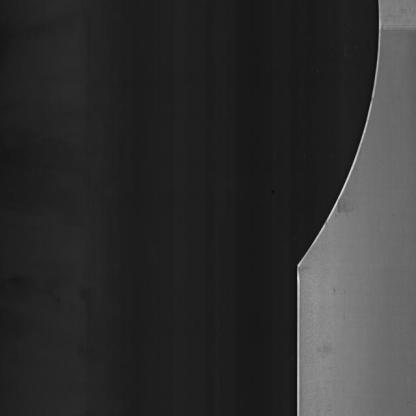crescent_gap: (286, 3, 384, 288)
welding_line: (372, 13, 414, 46)
